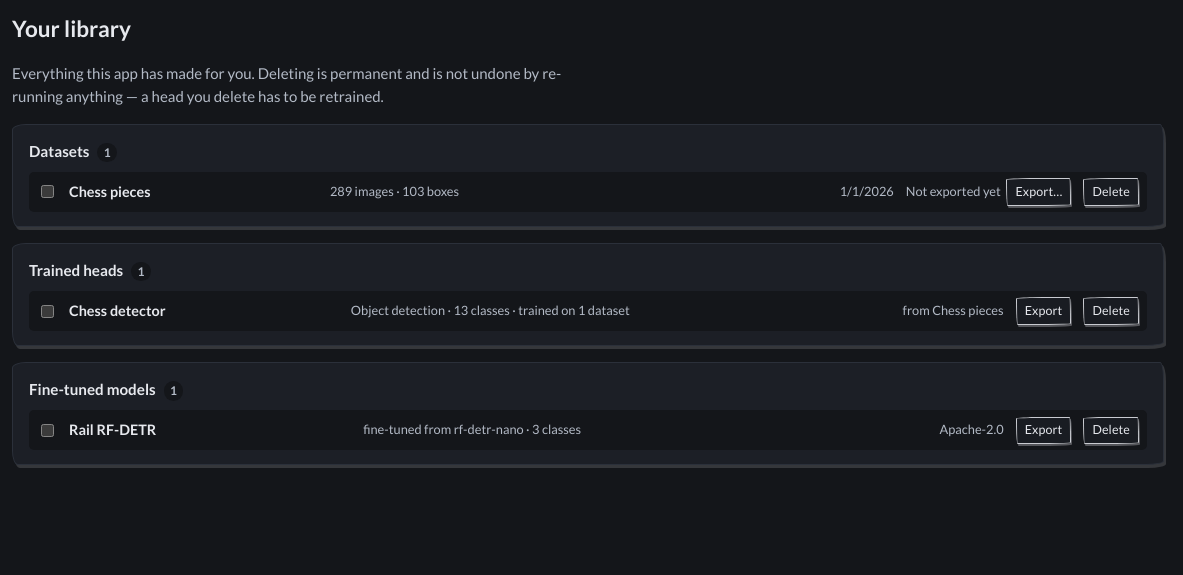
it: bulk delete (doc 54) › names what failed and keeps the rest
Click the checkbox named "Select Chess pieces". click: (48, 192)
box: 41,186 -> 54,198
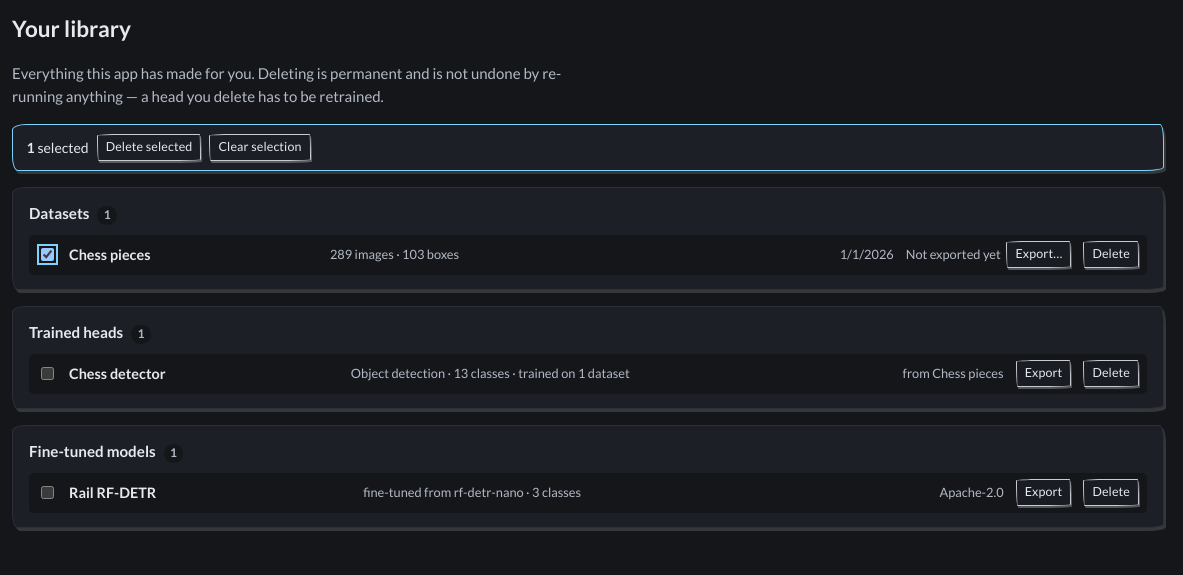
Click the checkbox named "Select Chess detector". click: (48, 374)
box: 41,367 -> 54,380
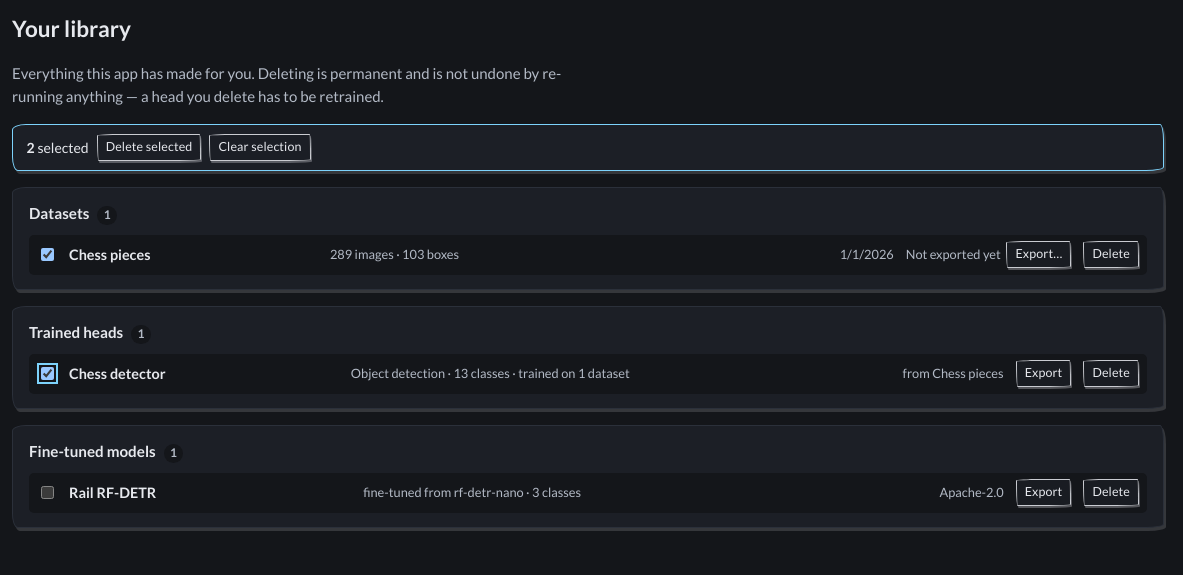
Click the button "Delete selected". click: (149, 148)
box: 97,134 -> 202,161
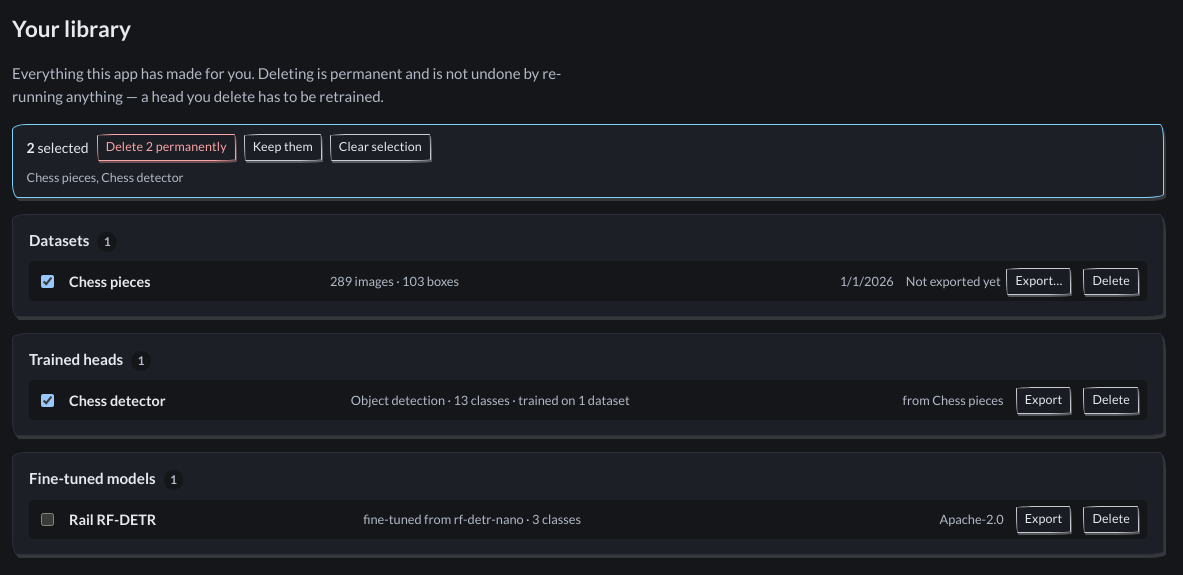
Click the button "Delete 2 permanently". click: (166, 148)
box: 97,134 -> 236,161
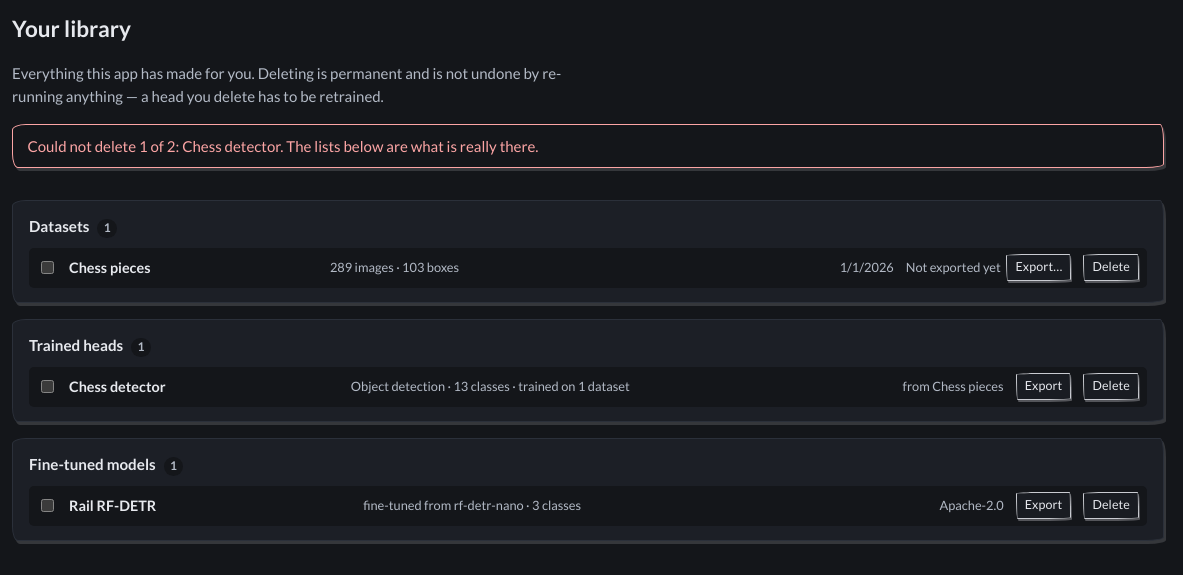
Now the message shows "Could not delete 1 of 2", box 27,137 -> 538,155
Now the message shows "Chess detector", box 27,137 -> 538,155
